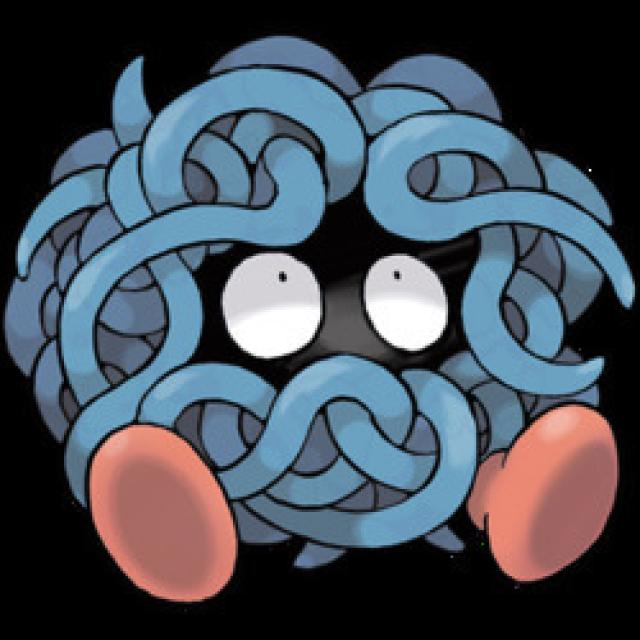Tangela: (71, 50, 616, 601)
